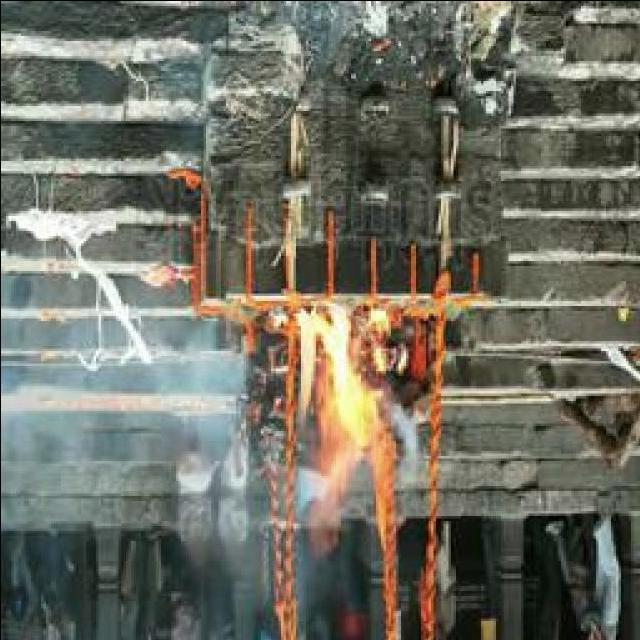Fire: (290, 306, 394, 530)
